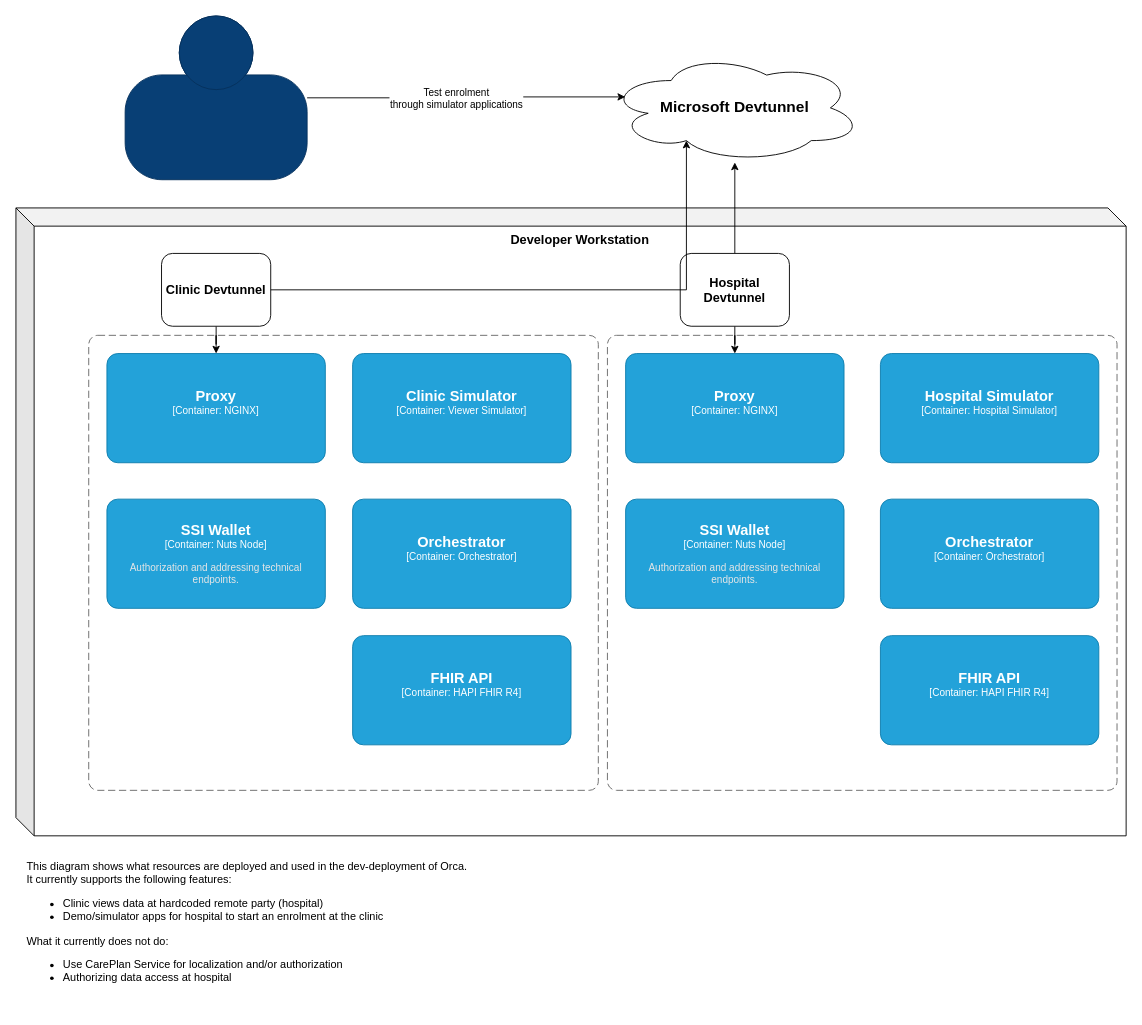
This 1142x1025 diagram has some shape labels left out. The box of each missing label's shape, as (x1, y1, x2, y2) in pixels:
Clinic [Docker Compose]: (88, 334, 598, 790)
Developer [Person] Develops Orca: (124, 15, 307, 180)
Hospital [Docker Compose]: (607, 334, 1117, 790)
